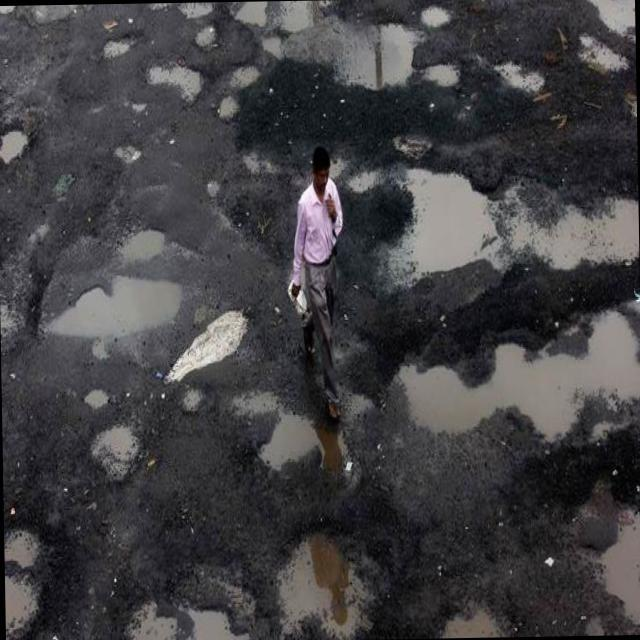Pothole: (395, 302, 640, 478), (261, 514, 399, 640), (45, 262, 194, 348), (536, 180, 640, 286), (398, 168, 496, 276), (261, 390, 356, 495), (116, 566, 249, 640), (334, 8, 424, 94), (598, 512, 640, 635), (84, 417, 146, 477), (436, 589, 511, 638), (148, 50, 204, 110), (5, 570, 44, 634), (579, 30, 627, 74), (0, 113, 32, 177), (499, 53, 545, 96), (588, 0, 634, 42), (6, 518, 38, 570), (276, 0, 318, 34), (424, 56, 463, 92), (395, 126, 432, 162), (258, 26, 290, 63), (81, 381, 112, 417), (232, 0, 271, 28), (112, 136, 142, 172), (230, 56, 259, 91), (98, 32, 140, 56), (352, 162, 380, 196), (180, 382, 210, 412), (178, 2, 213, 26), (193, 20, 219, 50), (422, 1, 450, 28), (218, 91, 235, 123)
